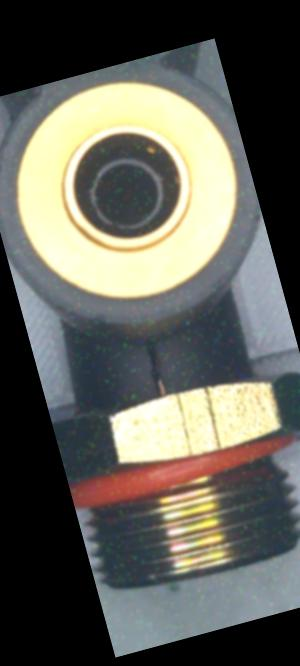craze: (140, 335, 173, 398)
